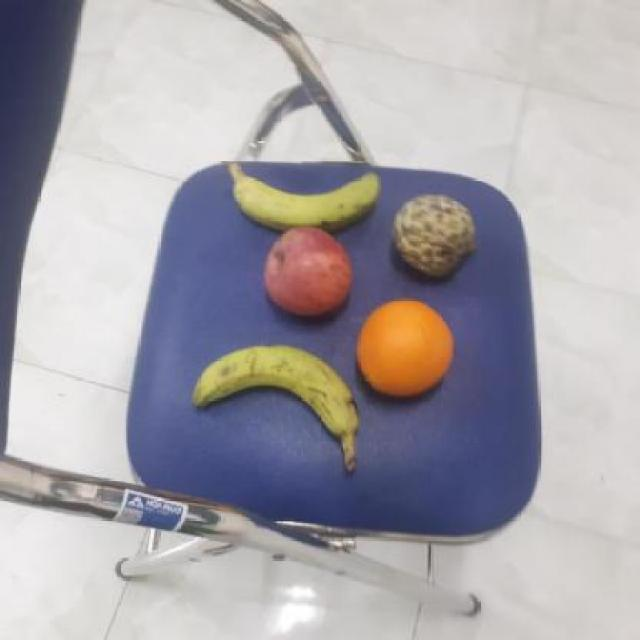apple: (260, 223, 357, 320)
banana: (186, 338, 360, 442), (227, 166, 387, 231)
oren: (352, 298, 459, 399)
sugar apple: (388, 191, 482, 280)
